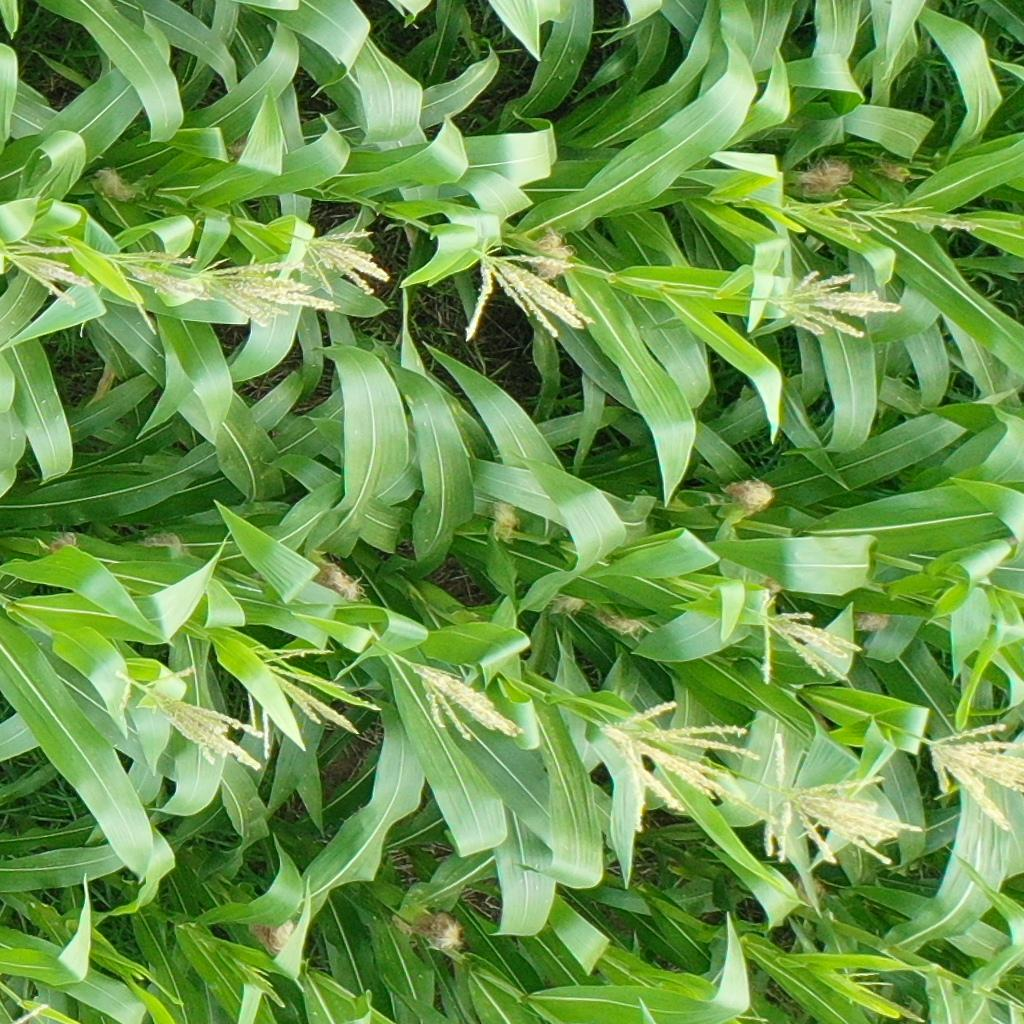Tassel: (758, 729, 925, 870), (596, 699, 779, 827), (112, 664, 267, 772), (239, 644, 383, 759), (458, 235, 598, 346), (752, 587, 864, 686), (196, 258, 340, 330), (929, 724, 1024, 833), (767, 269, 903, 340), (413, 662, 525, 742), (107, 249, 210, 333), (1, 232, 95, 310), (305, 228, 389, 294), (871, 197, 978, 241), (783, 199, 873, 244), (232, 958, 288, 1010), (840, 971, 891, 1005)
